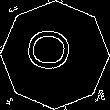O_E: (29, 33, 81, 77)
